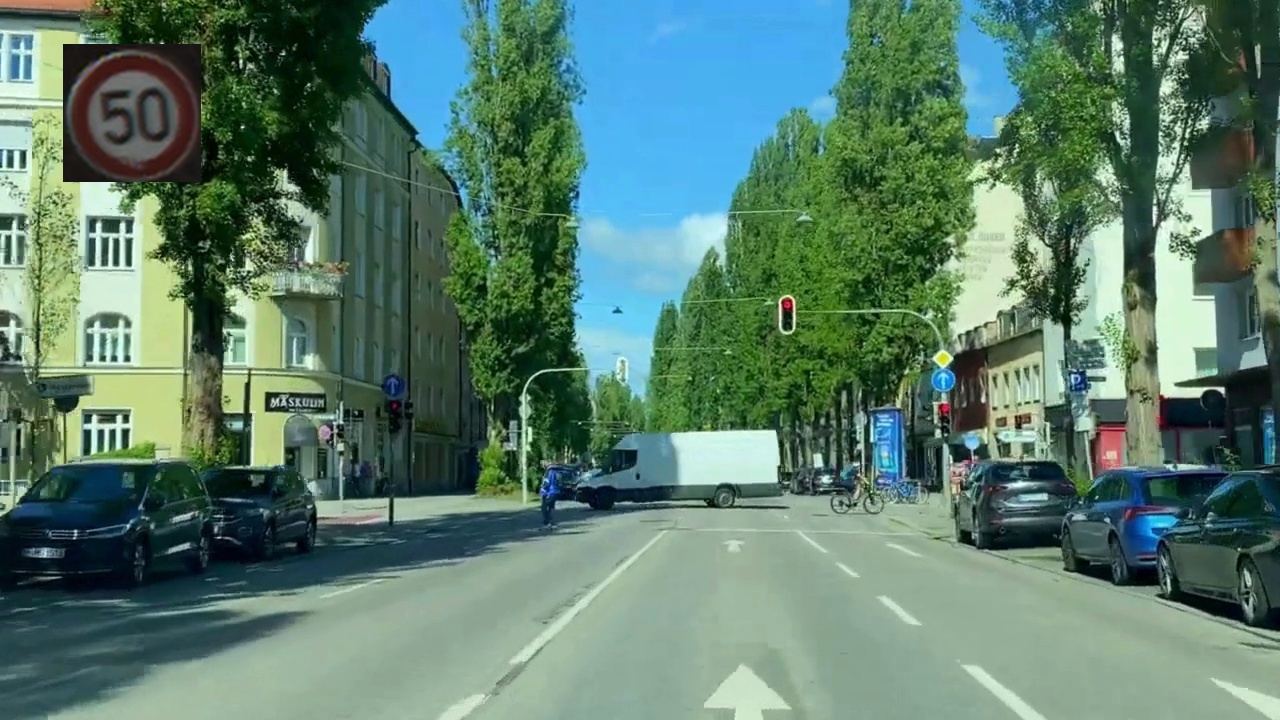Speed 50: (63, 44, 201, 182)
